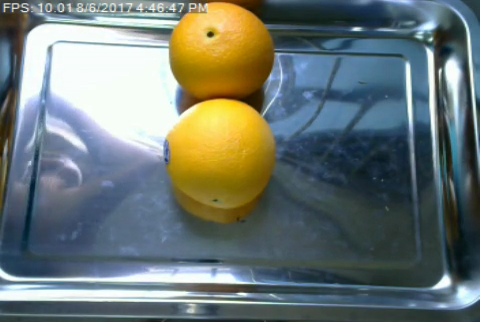Orange: (163, 99, 277, 207), (167, 0, 274, 103)
